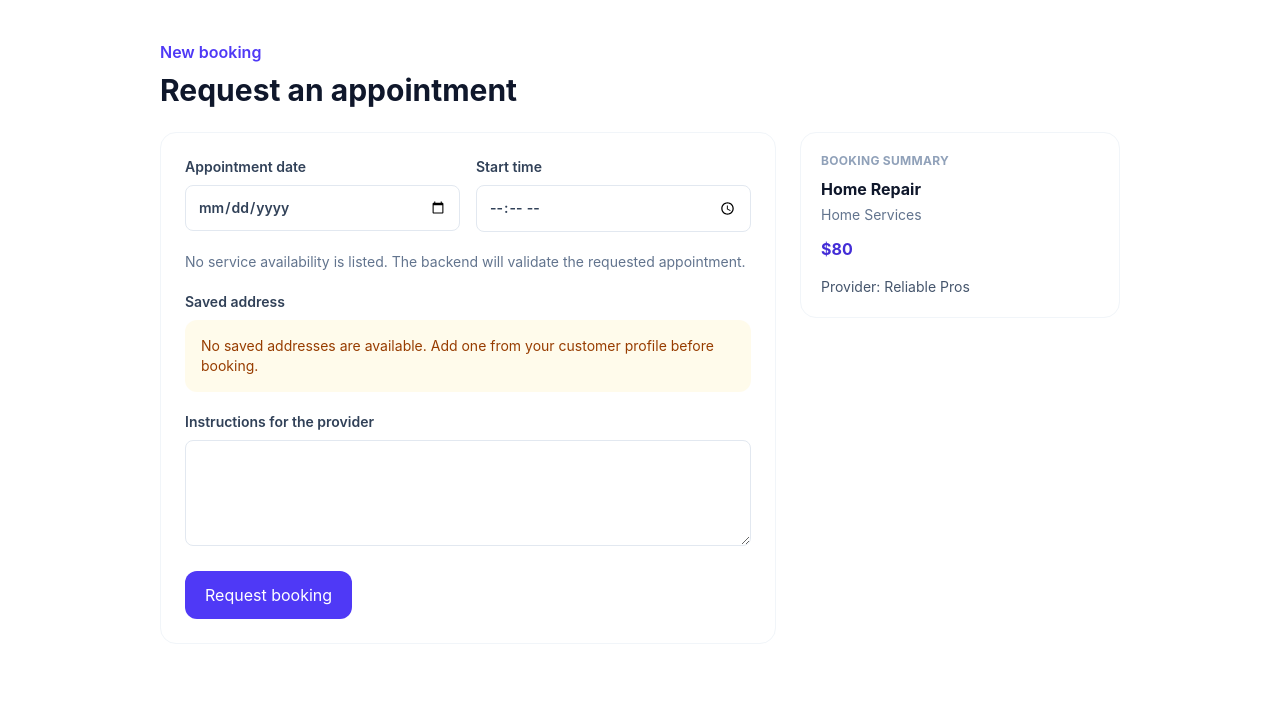
Scenario: CreateBookingPage › requires a saved address for customer-location services
Expected: the heading "Home Repair" is shown, left=821, top=179, right=921, bottom=199
Click the button "Request booking". click: (269, 595)
box: left=185, top=571, right=352, bottom=619
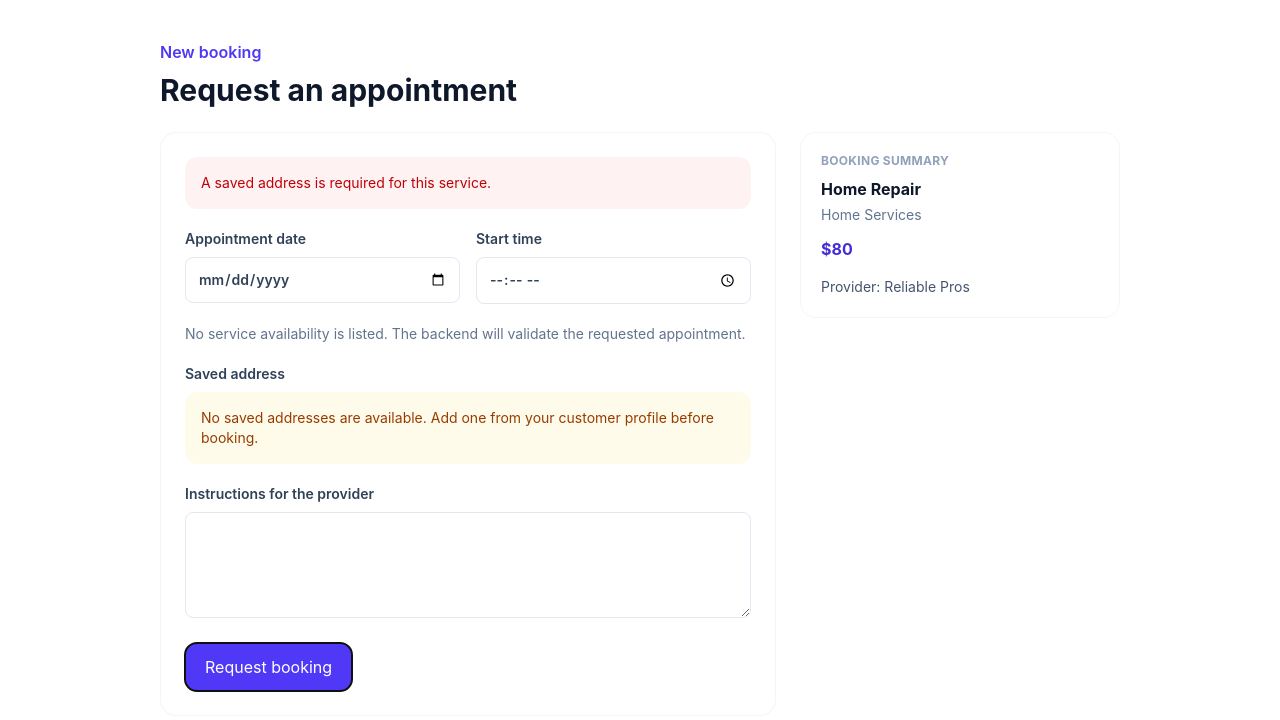
Expected: the text "A saved address is required for this service." is shown, left=185, top=157, right=751, bottom=209
